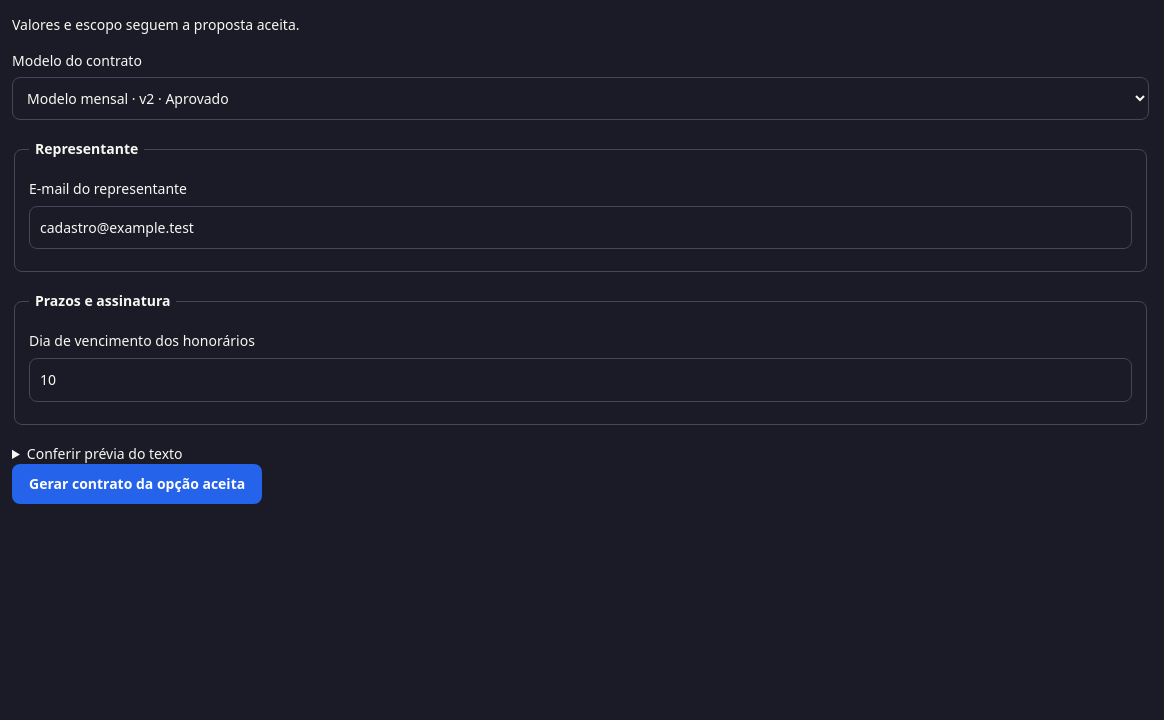
email da ficha e dia padrão podem ser apagados e a validação exige o novo valor
Clear the field labelled "E-mail do representante" at (580, 228), box [29,206,1132,250]
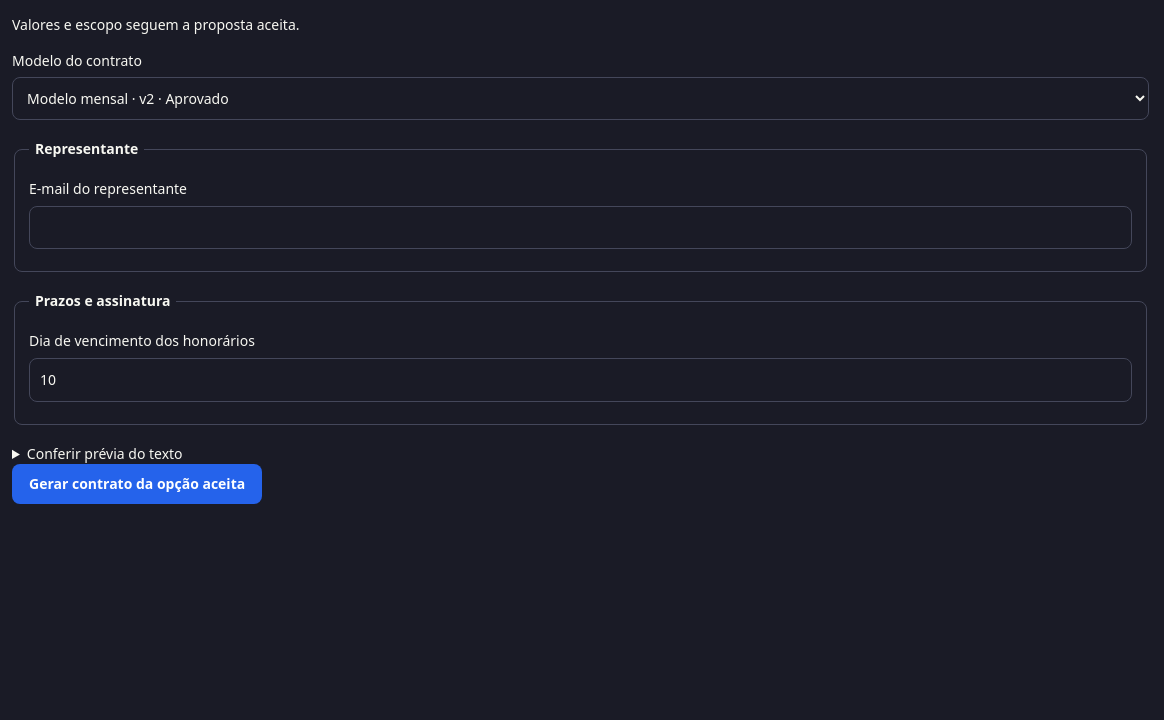
Clear the number field labelled "Dia de vencimento dos honorários" at (580, 380), box [29,358,1132,402]
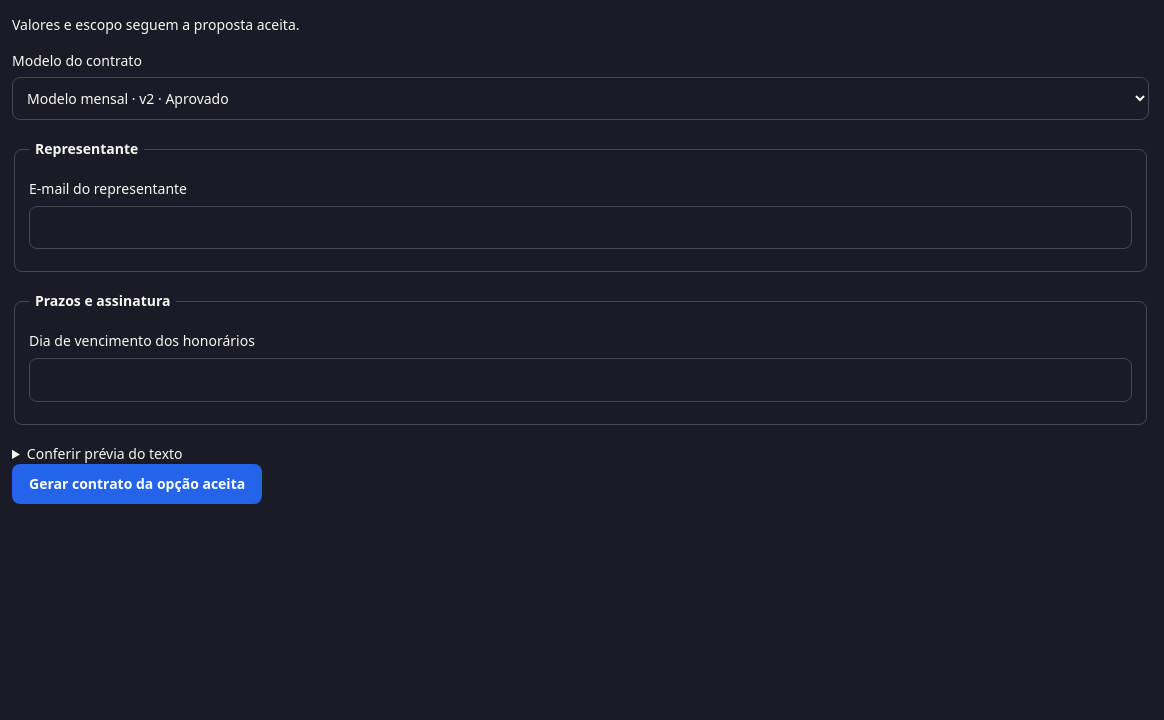
Click the button "Gerar contrato da opção aceita" at (137, 484), box [12,464,262,504]
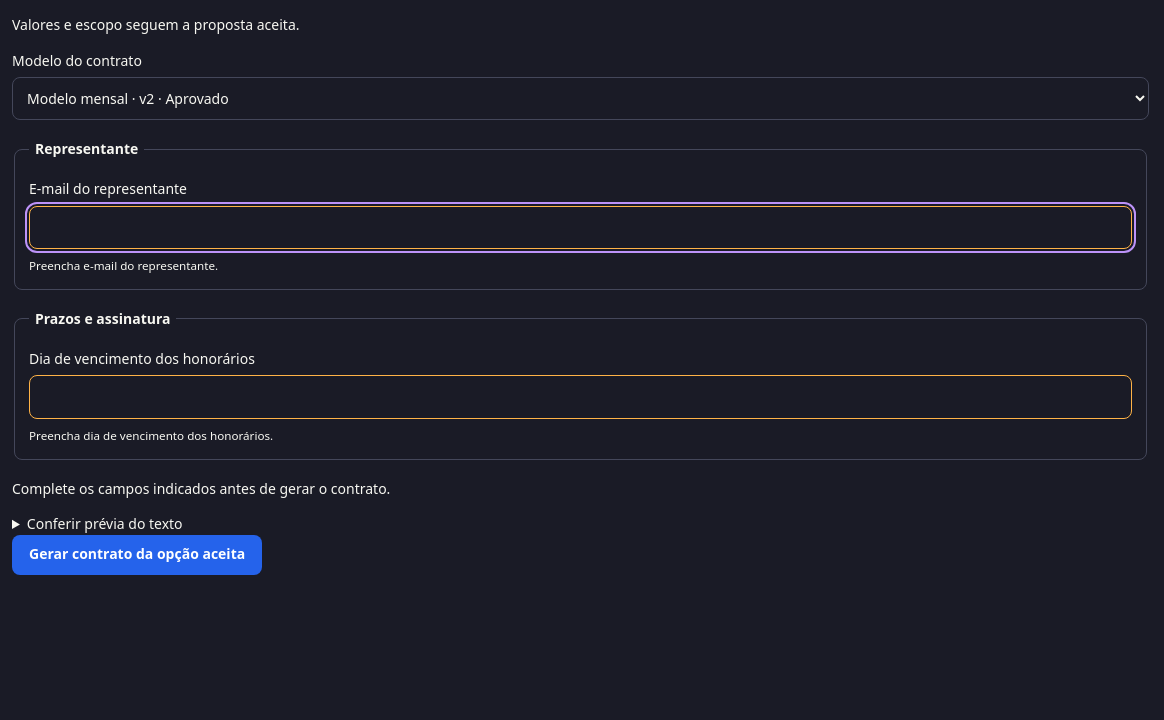
Now the number field labelled "Dia de vencimento dos honorários" is marked as invalid, box [29,375,1132,419]
Click the heading "Conferir prévia do texto" at (105, 524), box [27,514,183,533]
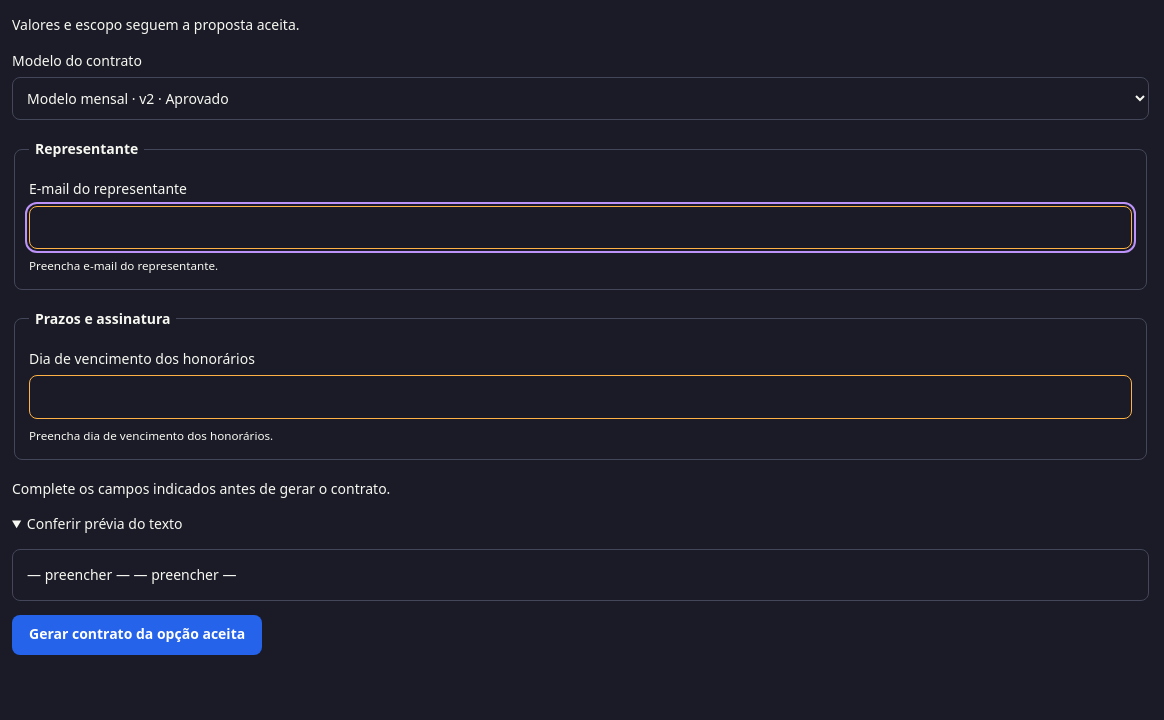
Now the text "— preencher — — preencher —" is shown, box [12,549,1149,601]
